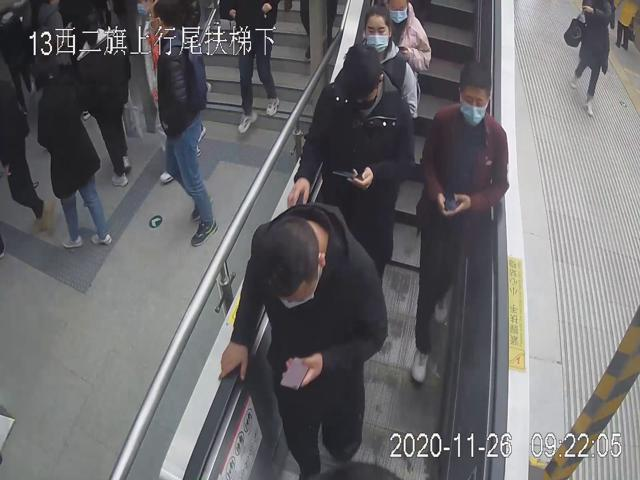person: (219, 202, 389, 480), (411, 60, 511, 383), (285, 43, 414, 287), (360, 2, 419, 120)
